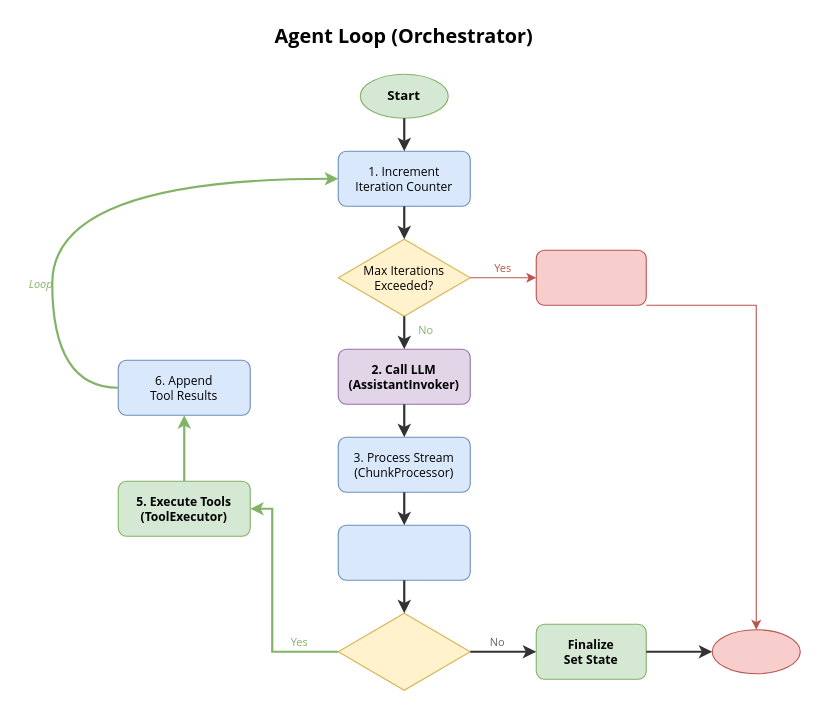
Image size: 820x710. Some labels were removed from this diagram. The centre of each missing label's shape, as x and y in pixels:
"4. Append Assistant Message" belongs at pixel 403 552.
"End" belongs at pixel 755 651.
"Error: Max Iterations" belongs at pixel 590 277.
"Tool Calls Present?" belongs at pixel 403 651.
